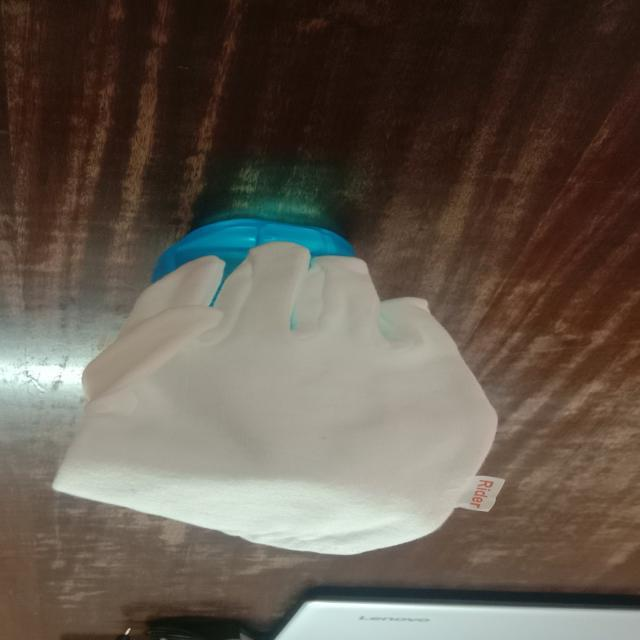gloved_hand: (41, 240, 516, 556)
